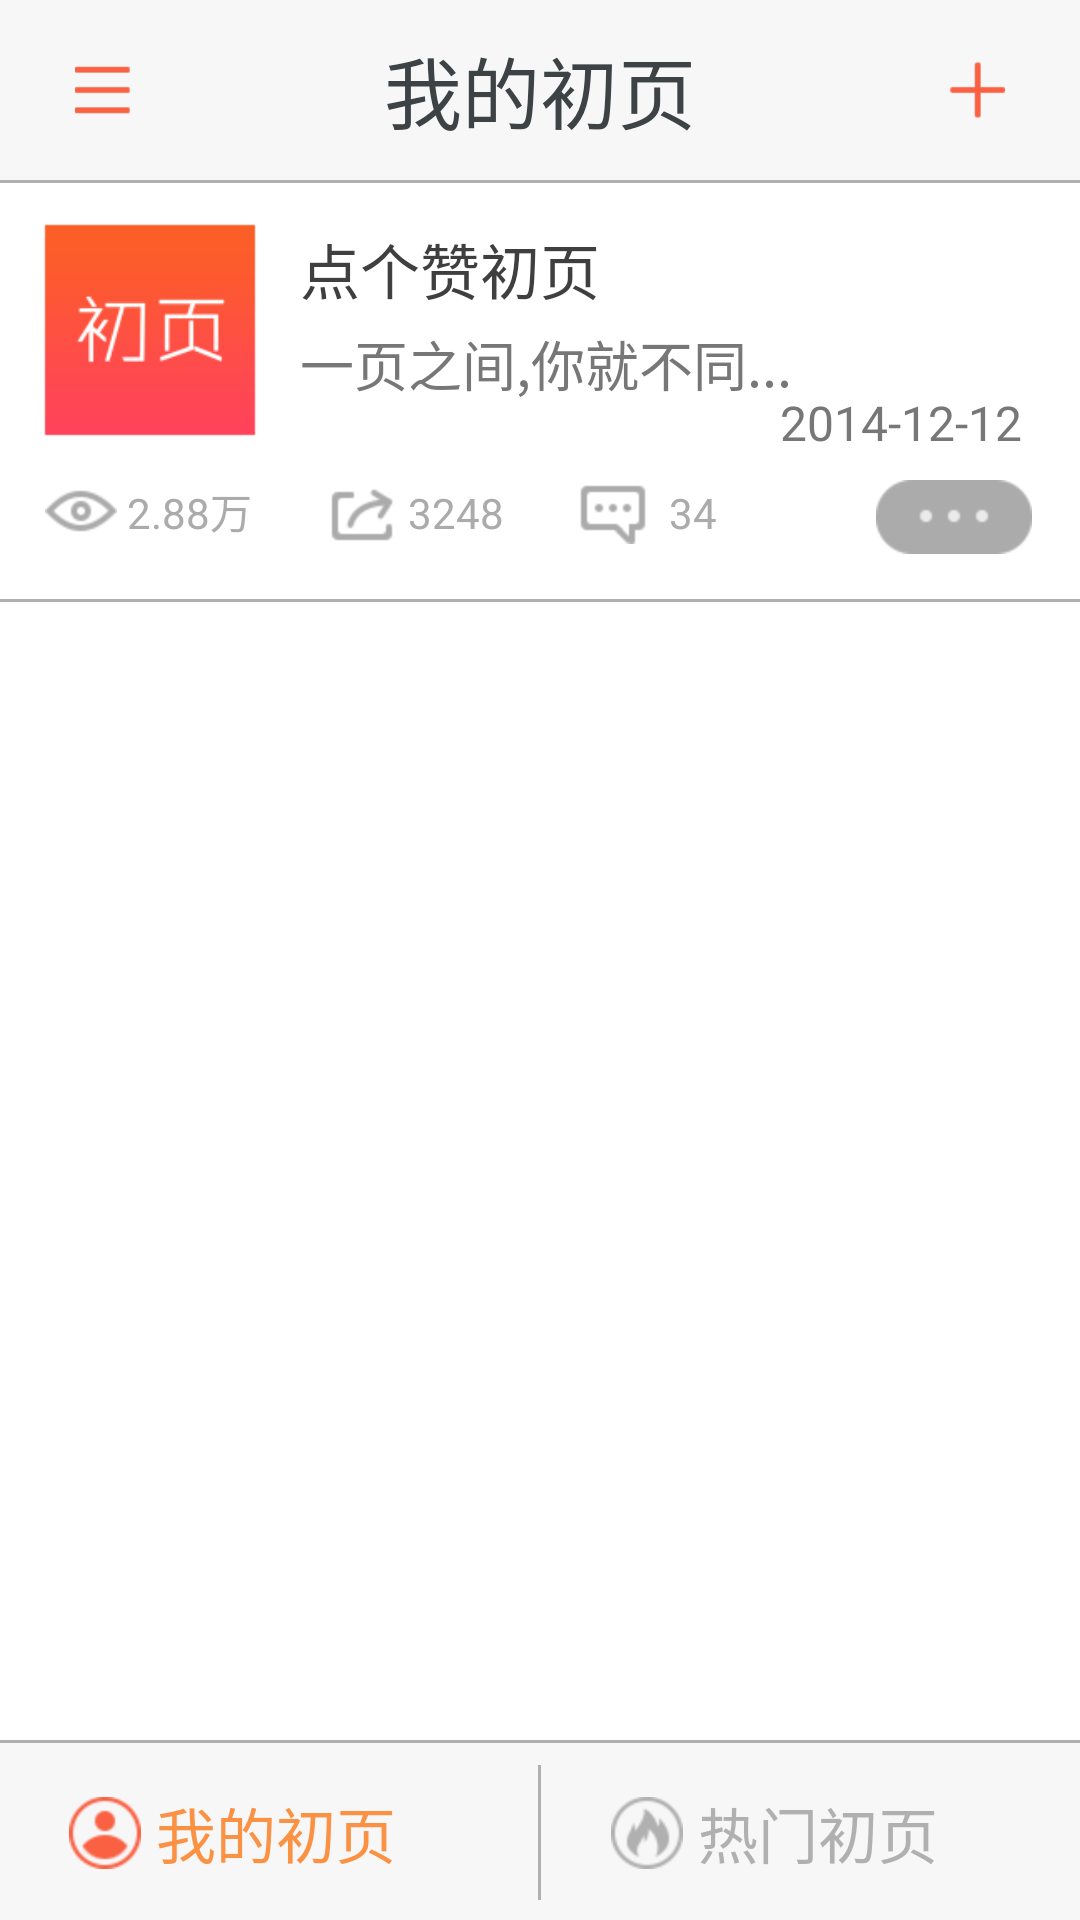

Where to tap for icons on this 1080px×1920px app screen, as [x,y]:
add: [977,90]
list narmal: [102,90]
more highlighted: [954,517]
